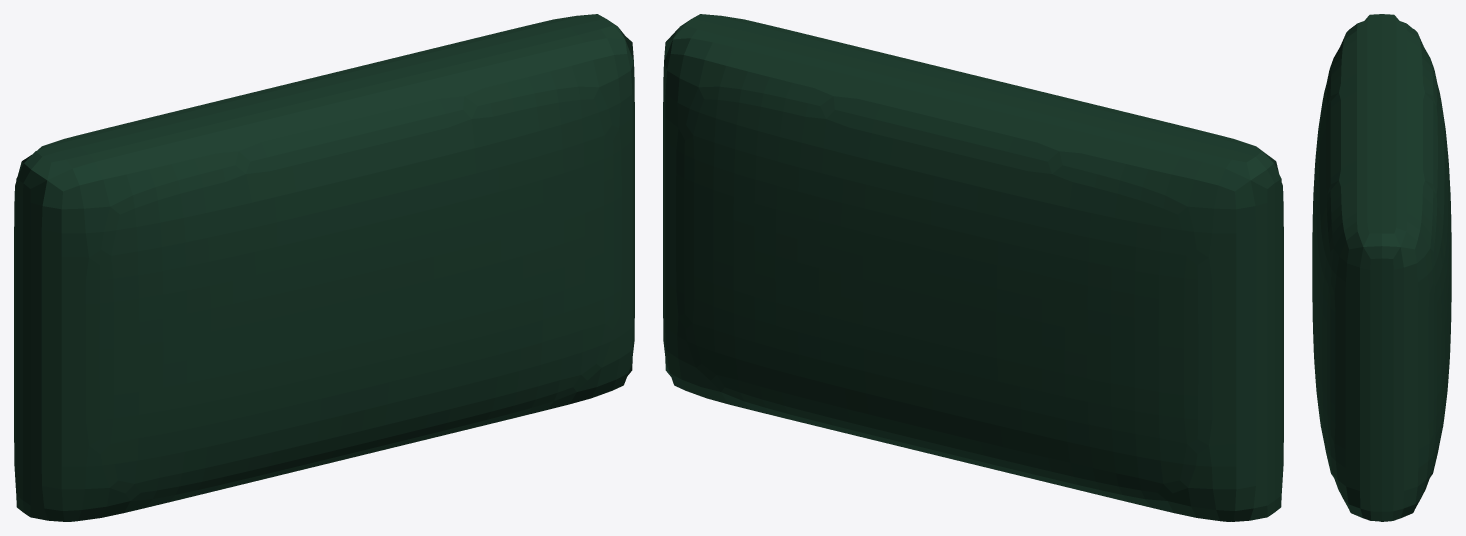
Rendered from BIB-LMB-std.glb.
3 renders of one model, left to right at view 1: azimuth 30°, elevation 25°; view 2: azimuth 150°, elevation 25°; view 3: azimuth 270°, elevation 25°, orthographic. The views are drawn at different scales.
Parts seen in each view (by area): view 1: pillow-lumbar:pbr; view 2: pillow-lumbar:pbr; view 3: pillow-lumbar:pbr.
Boxes of the visible parts, bbox=[...] form: pillow-lumbar:pbr: bbox=[14, 14, 634, 521]; pillow-lumbar:pbr: bbox=[663, 14, 1283, 521]; pillow-lumbar:pbr: bbox=[1312, 14, 1451, 521].
Size of the model in its own units: 0.5426 by 0.3135 by 0.1362.
